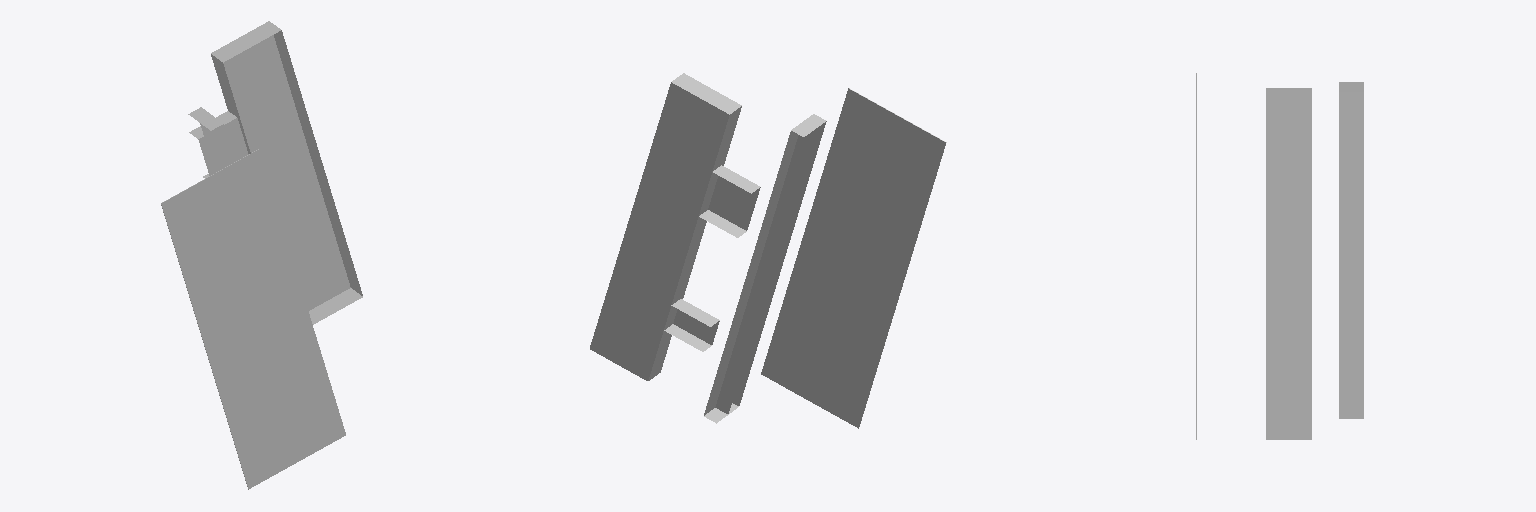
Rendered from Site11_Glass.obj.
3 views of the same model, side by side, from view 1: azimuth 30°, elevation 25°; view 2: azimuth 150°, elevation 25°; view 3: azimuth 270°, elevation 25° (orthographic).
Bounding box in the file's own units: 201 × 268 × 107.